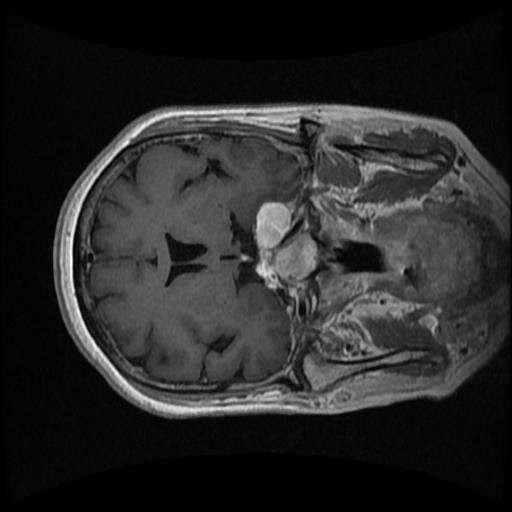meningioma: (254, 200, 290, 249)
